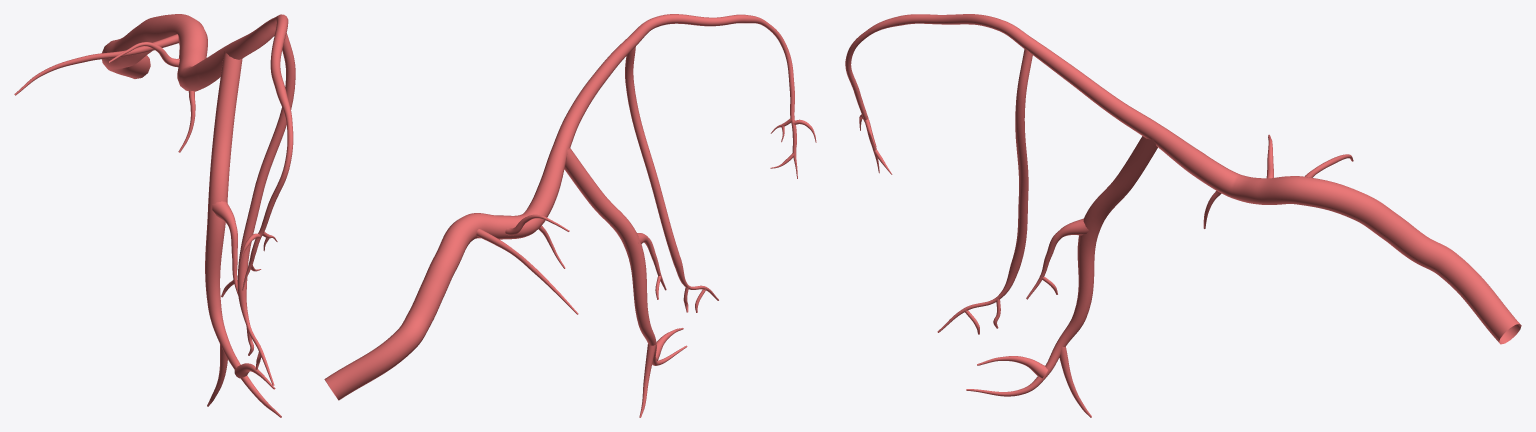
File: Maxillary_artery.l_BezierCurve.264.glb
3 renders of one model, left to right at view 1: azimuth 30°, elevation 25°; view 2: azimuth 150°, elevation 25°; view 3: azimuth 270°, elevation 25°, orthographic. The views are drawn at different scales.
Visible parts, largest first — view 1: Maxillary_artery.l_BezierCurve.264; view 2: Maxillary_artery.l_BezierCurve.264; view 3: Maxillary_artery.l_BezierCurve.264.
Part boxes in pixels (x1,y1,x2,y2): Maxillary_artery.l_BezierCurve.264: [14, 14, 295, 417]; Maxillary_artery.l_BezierCurve.264: [324, 14, 816, 417]; Maxillary_artery.l_BezierCurve.264: [845, 14, 1521, 417].
Bounding box in the file's own units: 0.0275 × 0.0466 × 0.0694.
